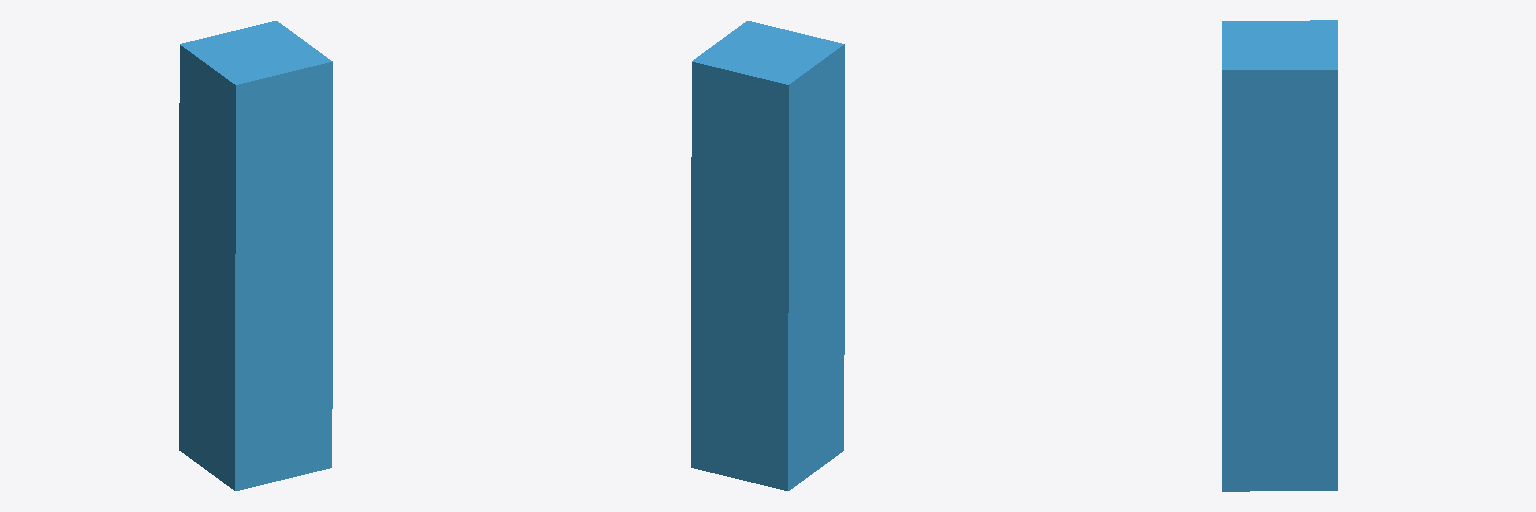
URDF robot description (canera3d):
<?xml version="1.0" ?>
<robot name="canera3d">
  <link name="base">
    <inertial>
      <mass value="4.0"/>
      <origin rpy="0 0 0" xyz="0.0 0.0 0.0"/>
      <inertia ixx="0.0" ixy="0.0" ixz="0.0" iyy="0.0" iyz="0.0" izz="0.0"/>
    </inertial>
    <visual>
      <origin rpy="0 0 0" xyz="0 0 0"/>
      <geometry>
        <mesh filename="camera3d/camera.obj" scale="1 1 1"/>
      </geometry>
    </visual>
    <collision>
      <geometry>
        <mesh filename="camera3d/camera.stl" scale="1 1 1"/>
      </geometry>
    </collision>
  </link>
  <link name="link_ee">
    <inertial>
      <mass value="0.1"/>
      <origin rpy="0 0 0" xyz="0 0 0"/>
      <inertia ixx="0.0" ixy="0.0" ixz="0.0" iyy="0.0" iyz="0.0" izz="0.0"/>
    </inertial>
    <visual>
      <geometry>
        <box size="0.01 0.04 0.01"/>
      </geometry>
    </visual>
  </link>

  <joint name="joint_ee" type="fixed">
    <origin rpy="-1.57 0 0" xyz="-0.019 0.524767 1.17"/>
    <parent link="base"/>
    <child link="link_ee"/>
    <axis xyz="0 0 1"/>
  </joint>

</robot>

--- Facts derived from the render (not from the file) ---
The picture shows the robot from 3 angles, left to right: view 1: azimuth 30°, elevation 25°; view 2: azimuth 150°, elevation 25°; view 3: azimuth 270°, elevation 25°; orthographic projection.
Robot: canera3d — 2 links, 1 joints (1 fixed); root link base; default pose: all joints at 0.
Visible links, largest first — view 1: link_ee; view 2: link_ee; view 3: link_ee.
Link boxes in pixels (x1,y1,x2,y2): link_ee: [179, 21, 332, 490]; link_ee: [691, 21, 844, 490]; link_ee: [1222, 20, 1337, 491].
Size in the robot's own frame: 0.01 by 0.01 by 0.04 metres.
0 mesh visuals loaded from 1 distinct referenced files (none loaded); not drawn: 1 (reference not matched to a file when rendering).